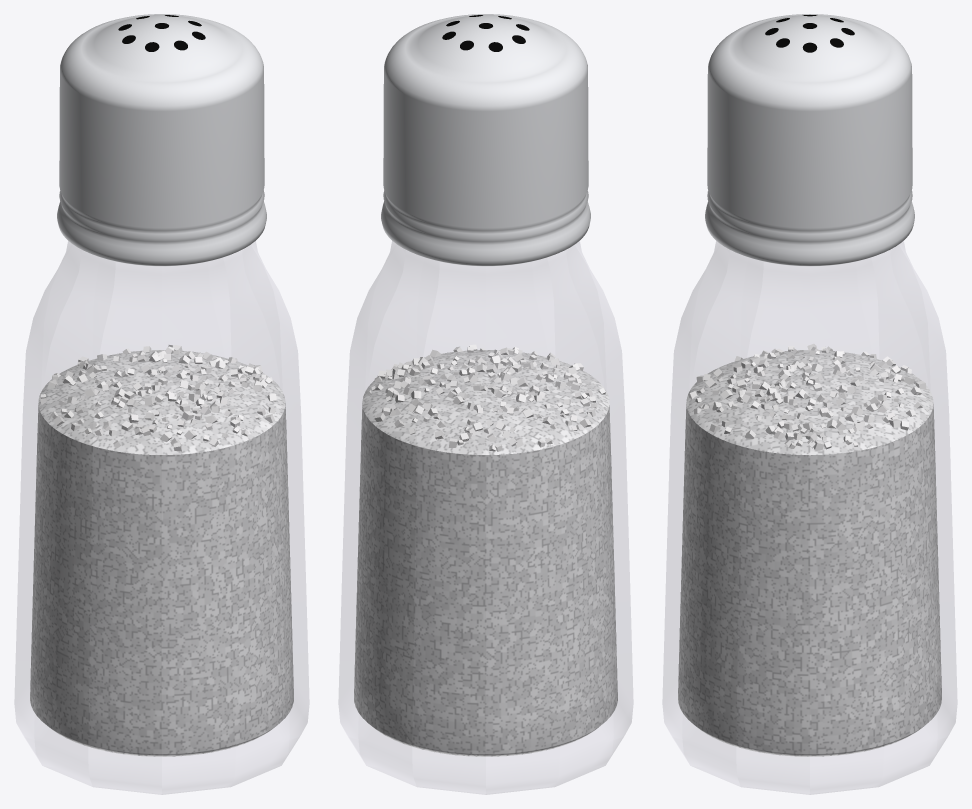
Rendered from salt-shaker.glb.
3 renders of one model, left to right at view 1: azimuth 30°, elevation 25°; view 2: azimuth 150°, elevation 25°; view 3: azimuth 270°, elevation 25°, orthographic.
Parts seen in each view (by area): view 1: Glass, Salt, Cap, Salt top, Salt crystals, Holes; view 2: Glass, Salt, Cap, Salt top, Salt crystals, Holes; view 3: Glass, Salt, Cap, Salt top, Salt crystals, Holes.
Boxes of the visible parts, x1,y1,x2,y2 form: Glass: (14,241,309,794); Salt: (30,403,293,756); Cap: (57,14,266,266); Salt top: (38,350,285,454); Salt crystals: (40,345,276,451); Holes: (118,15,205,51); Glass: (338,241,633,794); Salt: (354,403,617,756); Cap: (381,14,590,266); Salt top: (362,350,609,454); Salt crystals: (366,344,605,451); Holes: (442,15,529,51); Glass: (662,241,957,794); Salt: (678,404,941,756); Cap: (705,14,914,266); Salt top: (686,350,933,455); Salt crystals: (688,343,926,450); Holes: (765,15,854,52).
Size of the model in its own units: 0.0972 by 0.2601 by 0.0972.
Materials: 5 (1 with a texture image).
